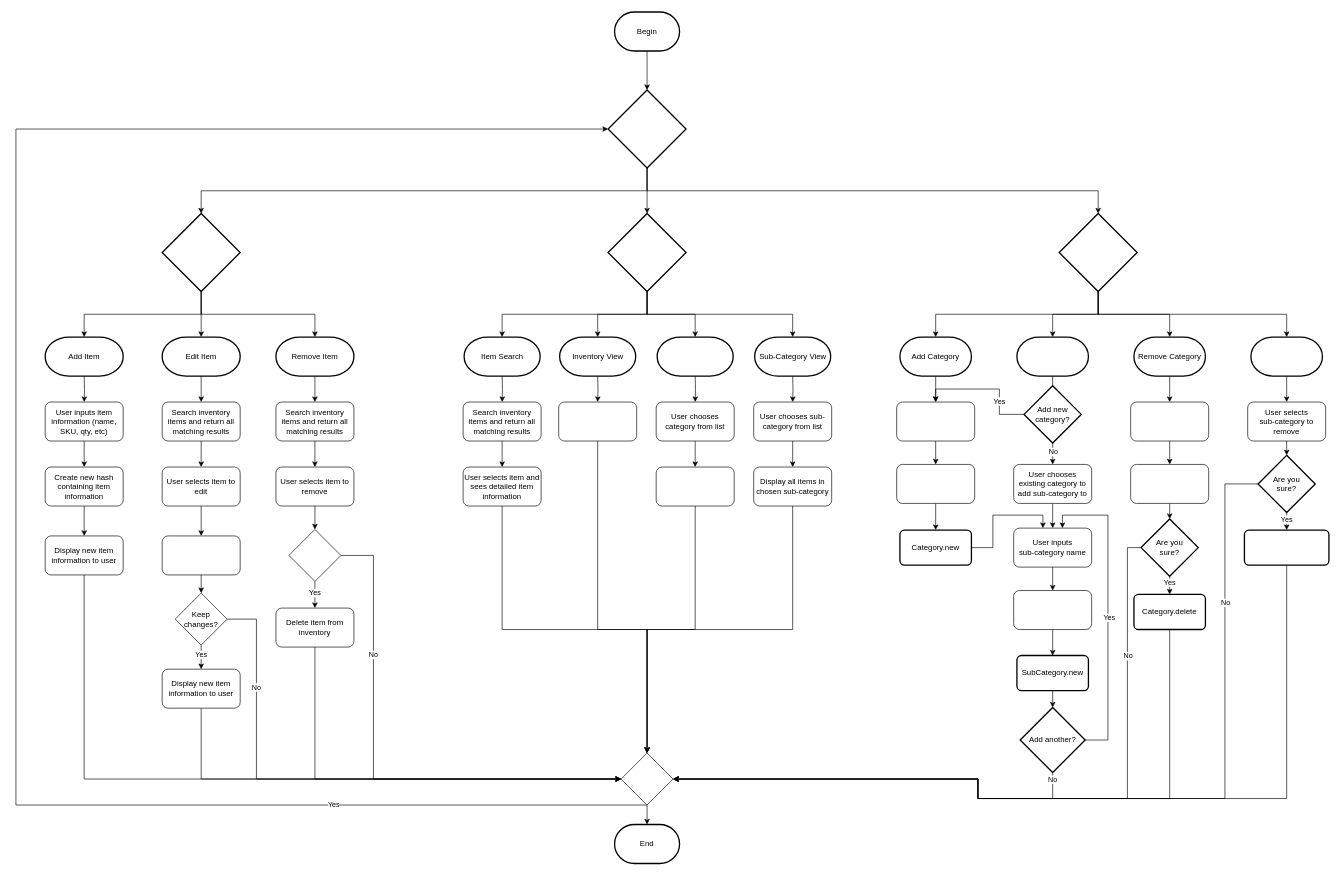
Image size: 1341x875. Some labels were removed from this diagram. Each missing label, with the centre of its shape:
"Add Sub-Category" belongs at [1052,356].
"Add/Edit Items" belongs at [200,252].
"Add/Remove Categories" belongs at [1098,252].
"Back to Menu?" belongs at [646,778].
"Category View" belongs at [695,356].
"Display all items in chosen category" belongs at [695,486].
"Main Menu" belongs at [646,128].
"Present user with entire inventory sorted by category" belongs at [597,421].
"Remove Item?" belongs at [314,555].
"Remove Sub-Category" belongs at [1286,356].
"SubCategory.delete" belongs at [1286,547].
"User edits item information" belongs at [201,555].
"User inputs category-level attributes" belongs at [935,483].
"User inputs new category name" belongs at [935,421].
"User inputs sub-category-level attributes" belongs at [1052,610].
"User selects category to remove" belongs at [1169,421].
"View Inventory" belongs at [646,252].
"Warning: This will also delete all sub-categories" belongs at [1169,483].
